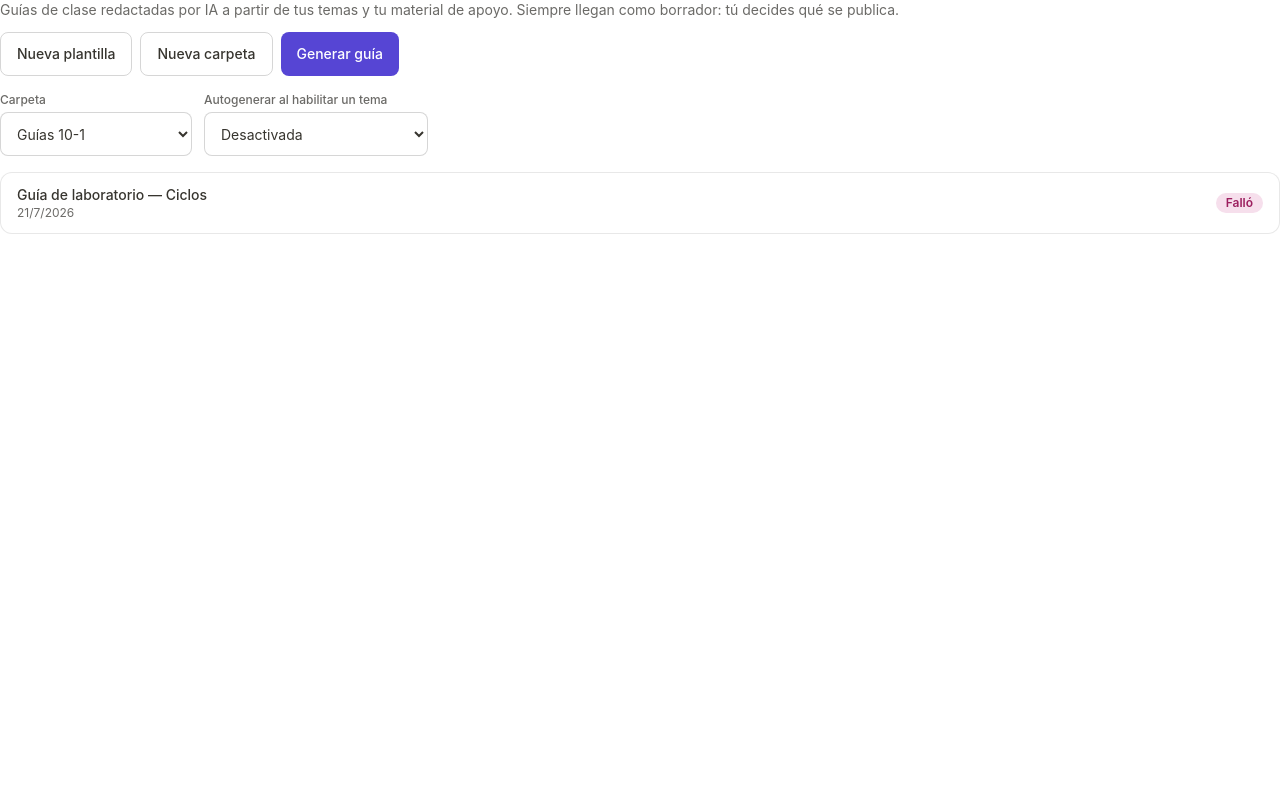
Scenario: GuidesTab › muestra el motivo cuando la generación falló
What coordinates should you click on to do the following:
click the button "Guía de laboratorio — Ciclos 21/7/2026 Falló"
I would click on:
 (112, 194)
Its box is [0,172,1279,234].
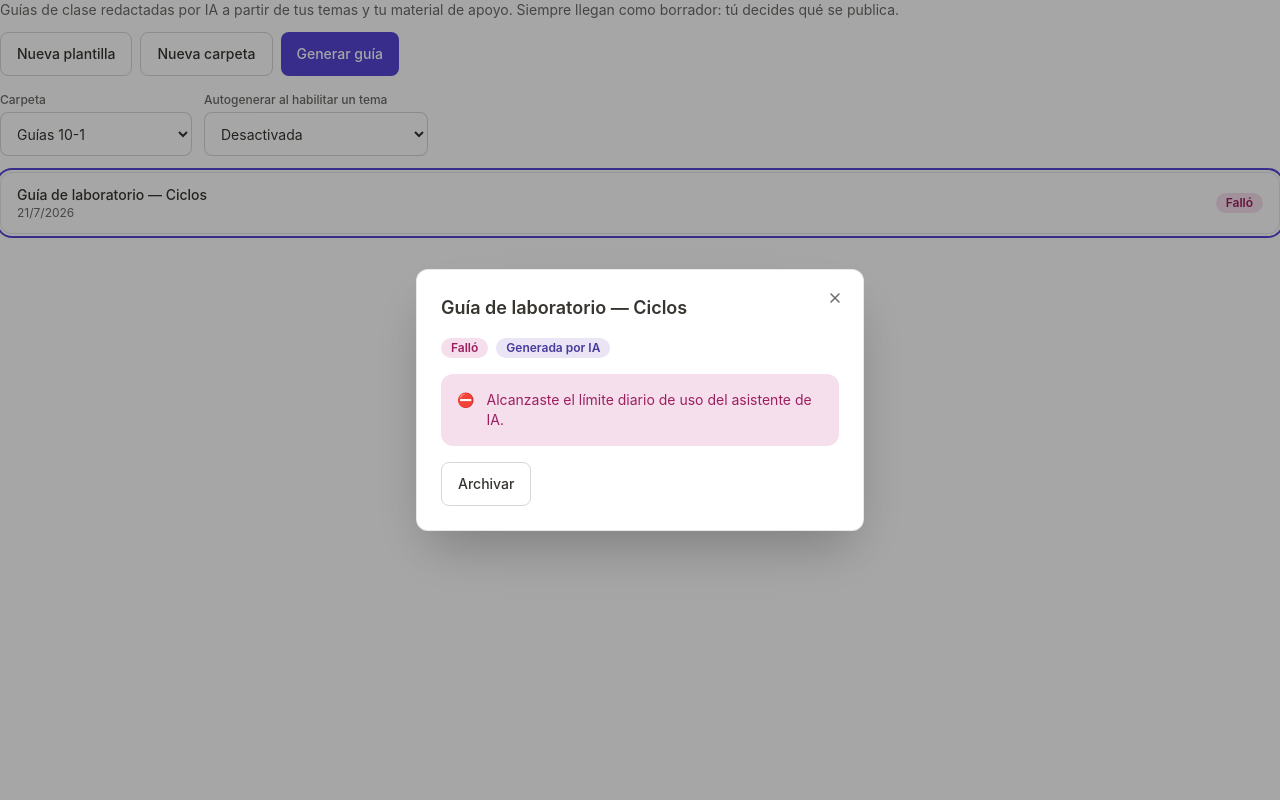
expect the text "Alcanzaste el límite diario de uso del asistente de IA." is shown: met, box [486,390,823,430]
